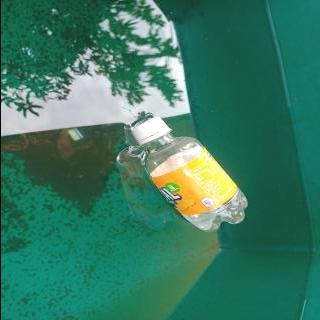bottle: (128, 116, 248, 232)
